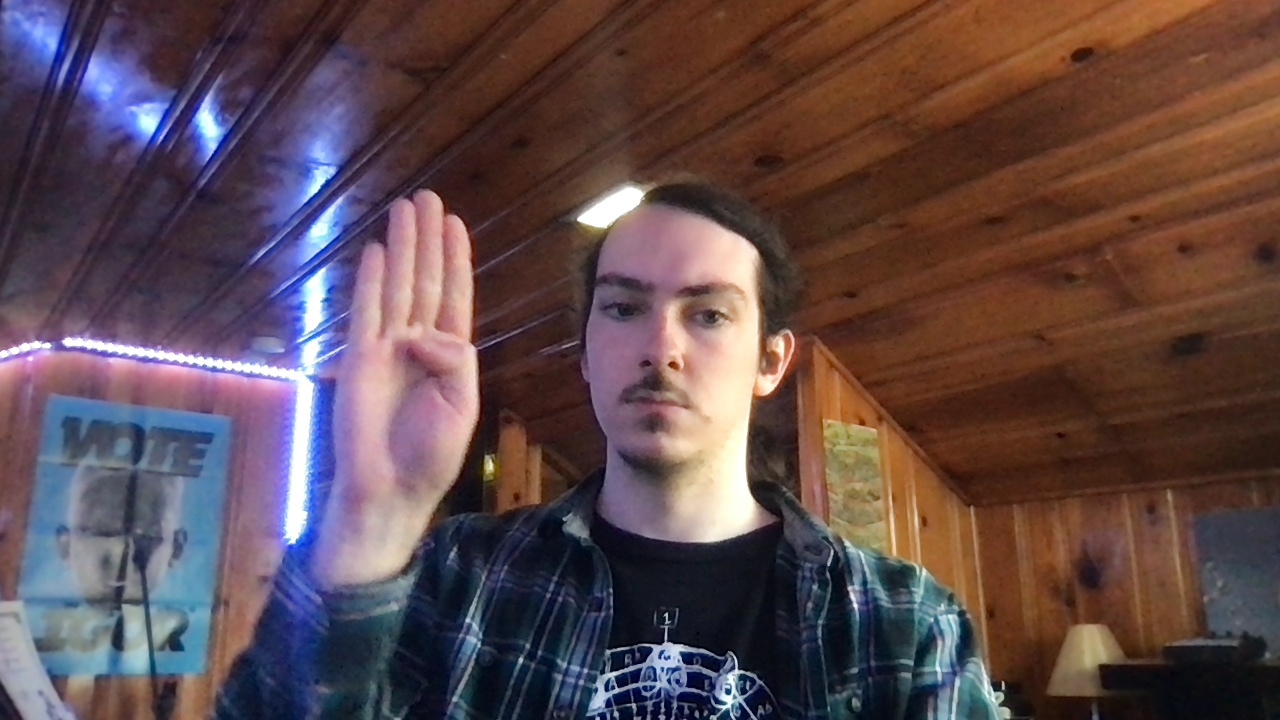b: (328, 186, 485, 499)
